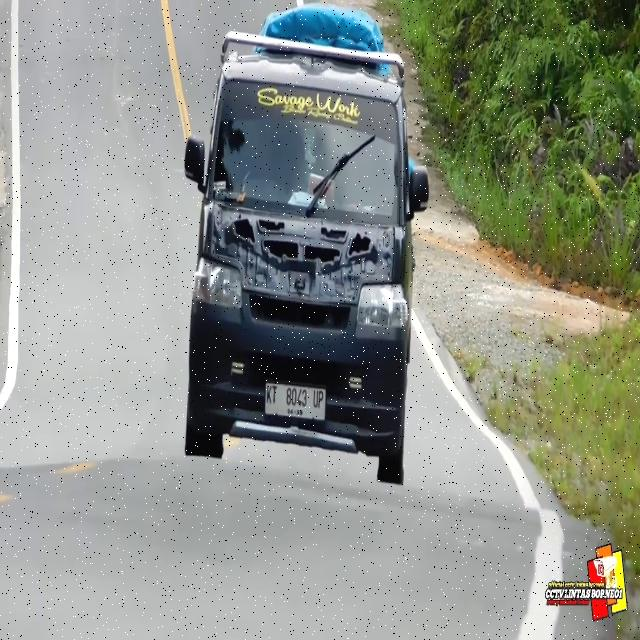Golongan IVB: (185, 29, 431, 483)
